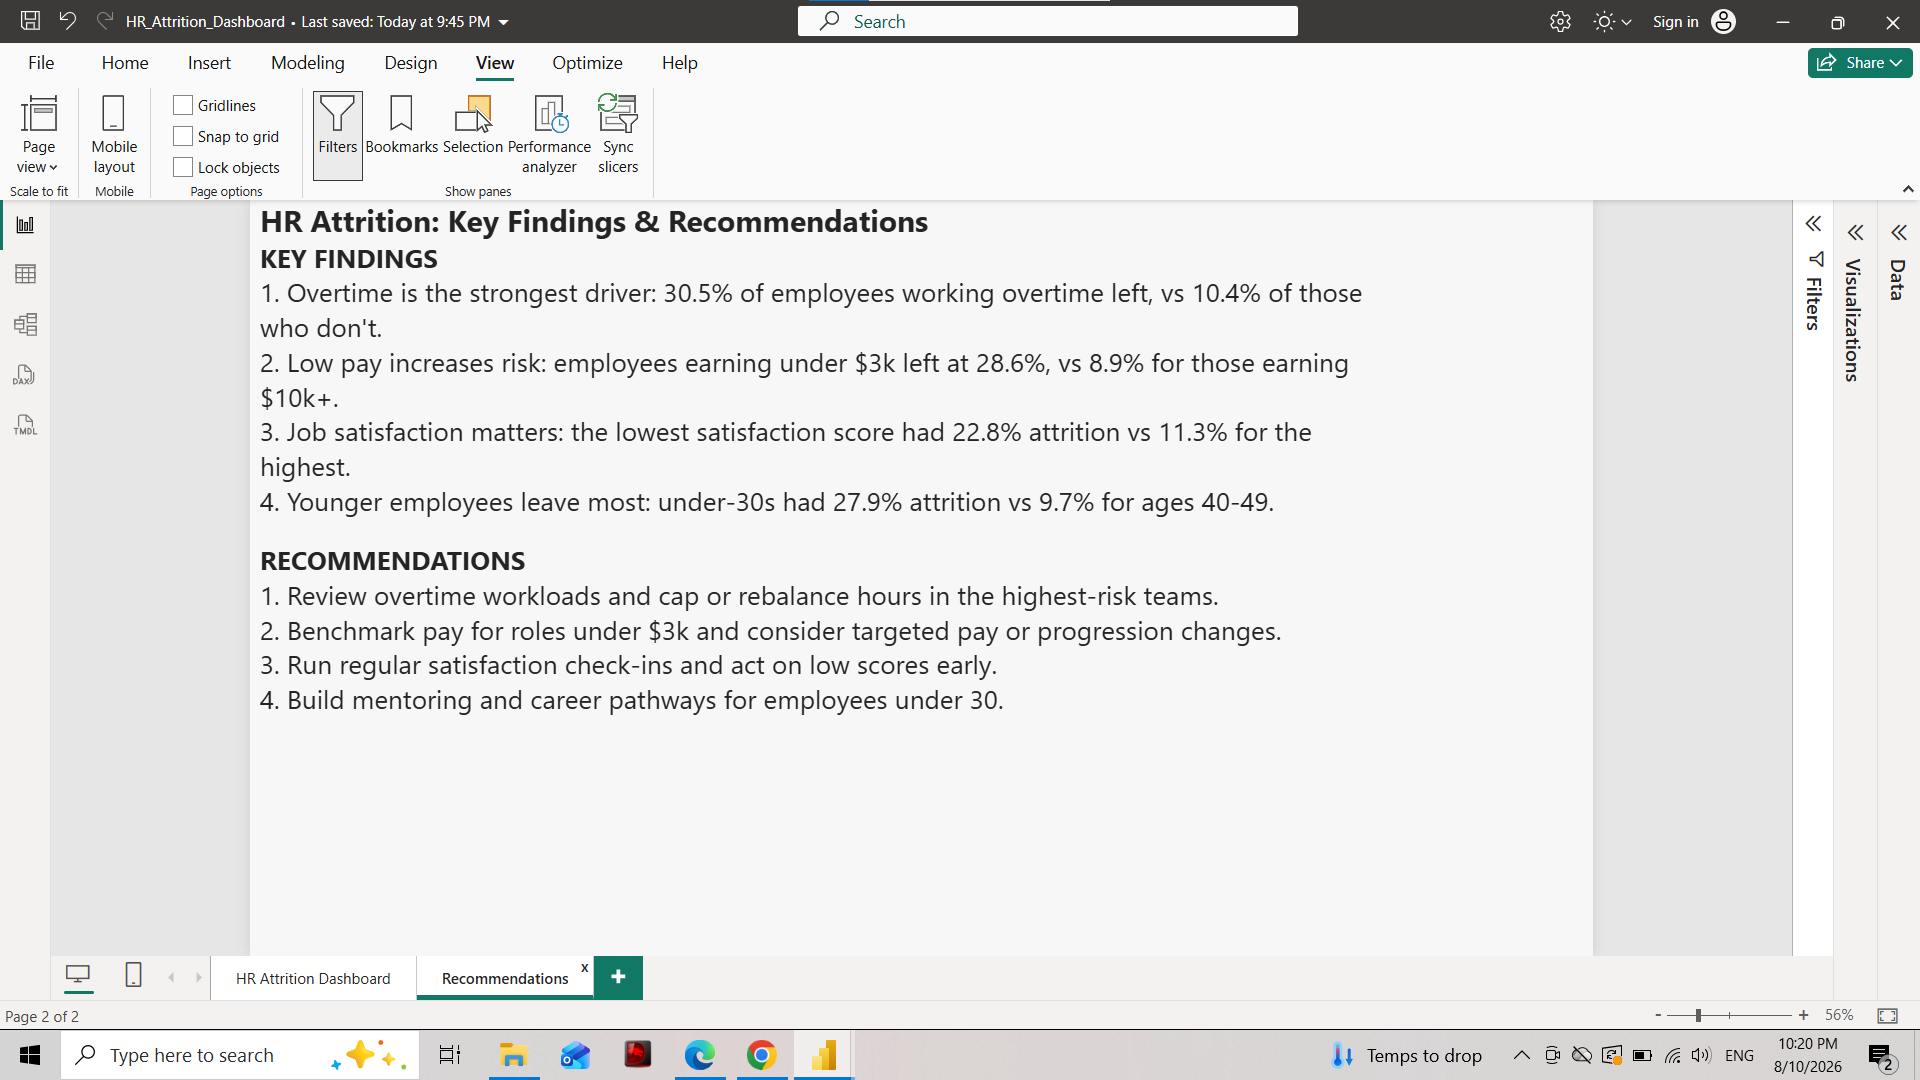

Layout of this report page (visuals, bound fields, positions):
{"tool":"powerbi","page":{"name":"Recommendations","canvas":[1920,1080],"ordinal":1},"visuals":[{"type":"textbox","box":[14.4,0,1630.2,901.5],"z":0}]}

Visuals, with their boxes on the page's 1920x1080 design canvas (x1, y1, x2, y2). These are canvas units, not pixel positions in the 1920x1080 screenshot, which may show the page scaled, cropped or inside an application window:
textbox: BBox(14, 0, 1645, 902)
